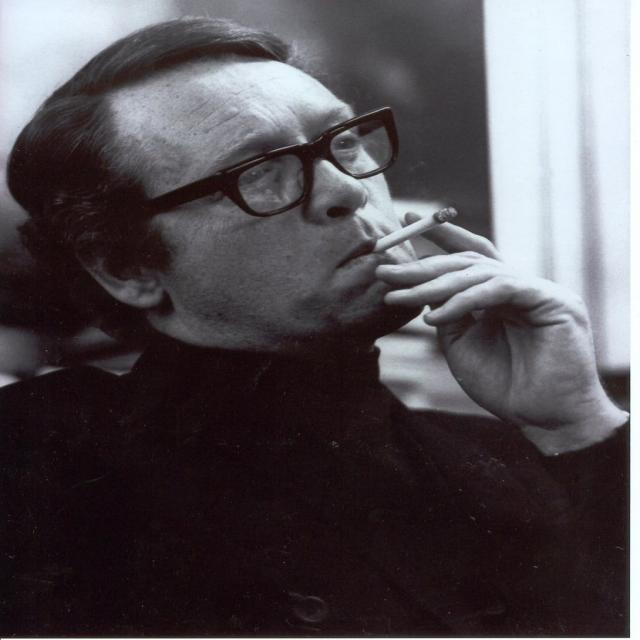smoke: (369, 199, 464, 262)
